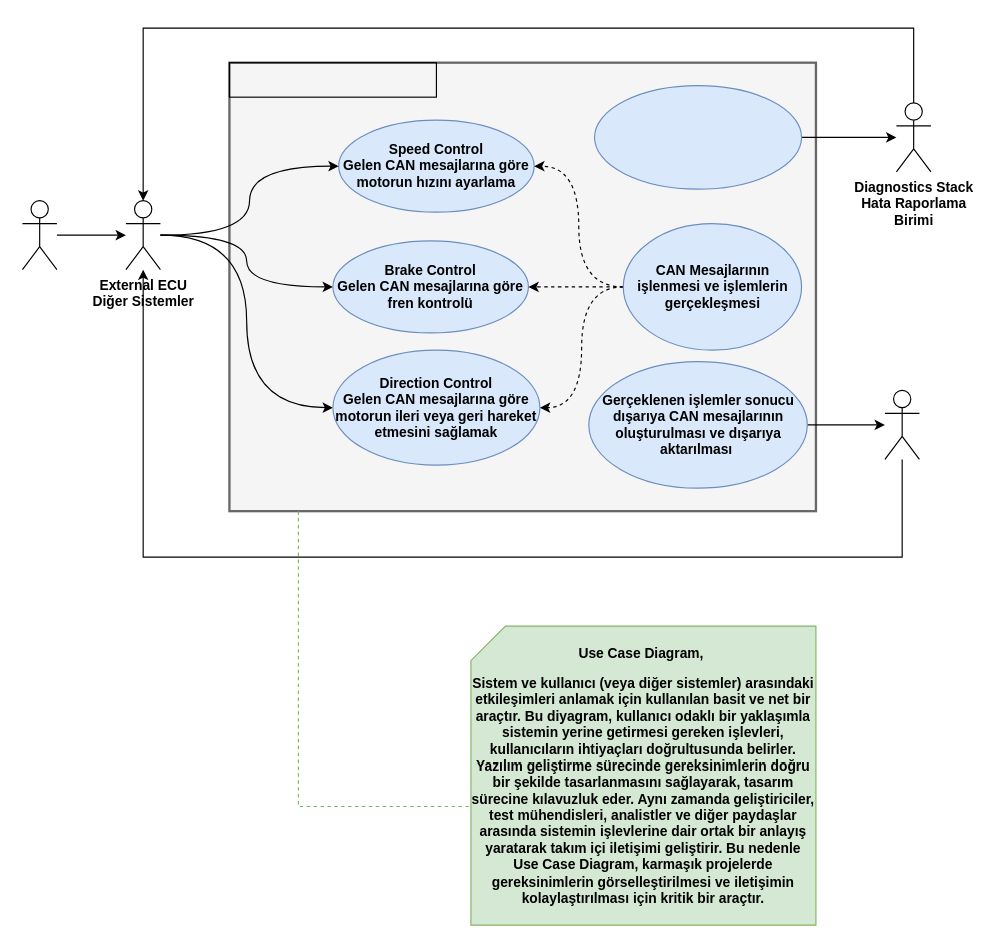
The diagram is 995 pixels wide and 945 high, and some of its shapes have lost their labels. Each missing label, with the box of its shape:
Communication Stack Haberleşme Birimi: (884, 389, 919, 459)
Driver Şöför: (21, 200, 57, 270)
EMobil Motor Driver System: (228, 62, 436, 97)
Error Logging Hata raporlama ve sistemin durumunun monitör edilmesi: (593, 85, 802, 189)
